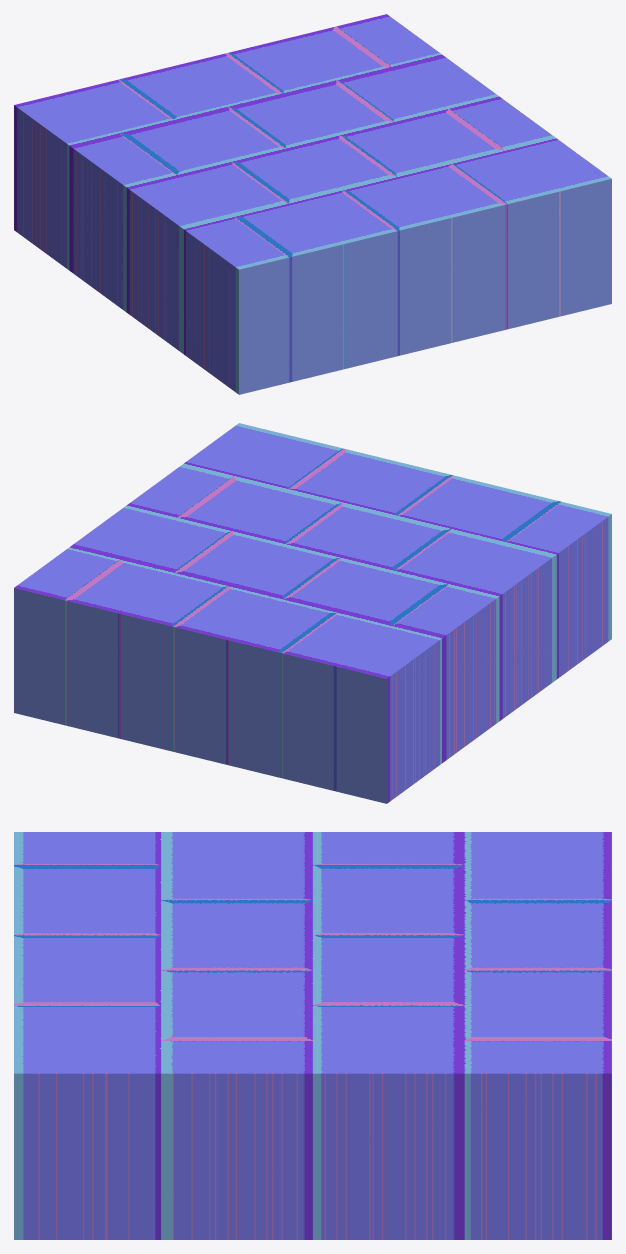
Rendered from diban 1.FBX.
3 views of the same model, one above another, from view 1: azimuth 30°, elevation 25°; view 2: azimuth 150°, elevation 25°; view 3: azimuth 270°, elevation 25° (orthographic). The views are drawn at different scales.
Visible parts, largest first — view 1: Box003; view 2: Box003; view 3: Box003.
Part boxes in pixels (box(x1,y1,x2,y2)): Box003: box(14, 14, 611, 394); Box003: box(14, 423, 611, 803); Box003: box(14, 832, 611, 1239).
Size of the model in its own units: 627 by 201 by 655.
Materials: 1 (1 with a texture image).
